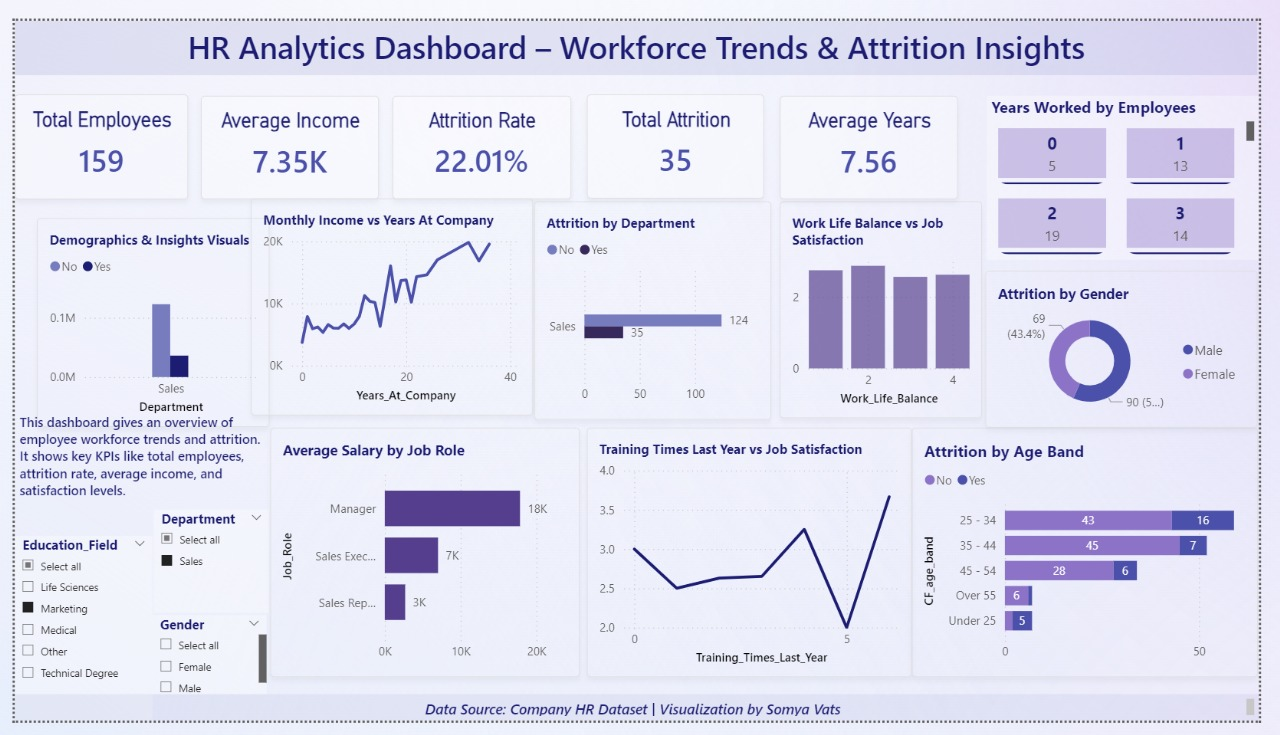

This screenshot's page, from the dashboard's own definition file:
{"tool":"powerbi","page":{"name":"Page 1","canvas":[1280,720],"ordinal":0},"visuals":[{"type":"card","title":"Total Employees","fields":{"Values":["Sum(HR Data xlsx - HR data.Employee_Count)"]},"box":[0,75,178.3,108.3],"z":0},{"type":"card","title":"Average Income","fields":{"Values":["Avg(HR Data xlsx - HR data.Monthly_Income)"]},"box":[191.7,76.7,183.3,106.7],"z":1000},{"type":"clusteredColumnChart","title":"Demographics & Insights Visuals ","fields":{"Category":["HR Data xlsx - HR data.Department"],"Series":["HR Data xlsx - HR data.Attrition"],"Y":["Sum(HR Data xlsx - HR data.Employee_Number)"]},"box":[0,183.8,240,215],"z":2000},{"type":"barChart","title":"Attrition by Age Band","fields":{"Category":["HR Data xlsx - HR data.CF_age_band"],"Y":["CountNonNull(HR Data xlsx - HR data.Employee_Number)"],"Series":["HR Data xlsx - HR data.Attrition"]},"box":[922.9,418.6,355.7,257.1],"z":3000},{"type":"donutChart","title":"Attrition by Gender","fields":{"Category":["HR Data xlsx - HR data.Gender"],"Y":["CountNonNull(HR Data xlsx - HR data.Attrition)"]},"box":[998.8,257,280.2,161.6],"z":4000},{"type":"barChart","title":"Average Salary by Job Role","fields":{"Category":["HR Data xlsx - HR data.Job_Role"],"Y":["Avg(HR Data xlsx - HR data.Monthly_Income)"]},"box":[263.3,418.3,318.3,256.7],"z":5000},{"type":"clusteredColumnChart","title":"Work Life Balance vs Job Satisfaction","fields":{"Category":["HR Data xlsx - HR data.Work_Life_Balance"],"Y":["Avg(HR Data xlsx - HR data.Job_Satisfaction)"]},"box":[786.7,185,208.3,223.3],"z":6000},{"type":"textbox","box":[0,0,1278.8,56.2],"z":7000},{"type":"card","title":"Total Attrition","fields":{"Values":["HR_Data.Attrition Count"]},"box":[589.1,76.4,182.7,107.3],"z":8000},{"type":"card","title":"Attrition Rate","fields":{"Values":["HR_Data.Attrition Rate"]},"box":[389.1,77.3,183.6,106.4],"z":9000},{"type":"slicer","fields":{"Values":["HR Data xlsx - HR data.Department"]},"box":[142.5,502.5,118.8,106.2],"z":10000},{"type":"slicer","fields":{"Values":["HR Data xlsx - HR data.Gender"]},"box":[141.2,611.2,117.5,81.2],"z":11000},{"type":"slicer","fields":{"Values":["HR Data xlsx - HR data.Education_Field"]},"box":[0,502.5,141.2,190],"z":12000},{"type":"textbox","box":[0,692.5,1280,27.5],"z":13000},{"type":"textbox","box":[0,398.8,261.2,103.8],"z":14000},{"type":"lineChart","title":"Monthly Income vs Years At Company","fields":{"Category":["HR_Data.Years_At_Company"],"Y":["Avg(HR_Data.Monthly_Income)"]},"box":[243.3,183.3,290,223.3],"z":15000},{"type":"lineChart","title":"Training Times Last Year vs Job Satisfaction","fields":{"Category":["HR_Data.Training_Times_Last_Year"],"Y":["Avg(HR_Data.Job_Satisfaction)"]},"box":[588.6,418.6,334.3,257.1],"z":16000},{"type":"advancedSlicerVisual","title":"Years Worked by Employees","fields":{"Label":["HR_Data.Total Employees"],"Values":["HR_Data.Years_At_Company"]},"box":[1000,76.7,280.2,168.6],"z":17000},{"type":"card","title":"Average Years ","fields":{"Values":["Avg(HR_Data.Years_At_Company)"]},"box":[786.7,76.7,183.3,106.7],"z":18000},{"type":"clusteredBarChart","title":"Attrition by Department","fields":{"Category":["HR_Data.Department"],"Y":["CountNonNull(HR_Data.Employee_Number)"],"Series":["HR_Data.Attrition"]},"box":[533.8,185,243.8,225],"z":19000}]}

Visuals, with their boxes in screenshot pixels (x1, y1, x2, y2), scaled from the page's 1280x720 canvas onto the 1280x735 screenshot:
"Total Employees" card: 0:77:178:187
"Average Income" card: 192:78:375:187
"Demographics & Insights Visuals " clusteredColumnChart: 0:188:240:407
"Attrition by Age Band" barChart: 923:427:1279:690
"Attrition by Gender" donutChart: 999:262:1279:427
"Average Salary by Job Role" barChart: 263:427:582:689
"Work Life Balance vs Job Satisfaction" clusteredColumnChart: 787:189:995:417
textbox: 0:0:1279:57
"Total Attrition" card: 589:78:772:188
"Attrition Rate" card: 389:79:573:188
slicer - HR Data xlsx - HR data.Department: 142:513:261:621
slicer - HR Data xlsx - HR data.Gender: 141:624:259:707
slicer - HR Data xlsx - HR data.Education_Field: 0:513:141:707
textbox: 0:707:1279:734
textbox: 0:407:261:513
"Monthly Income vs Years At Company" lineChart: 243:187:533:415
"Training Times Last Year vs Job Satisfaction" lineChart: 589:427:923:690
"Years Worked by Employees" advancedSlicerVisual: 1000:78:1279:250
"Average Years " card: 787:78:970:187
"Attrition by Department" clusteredBarChart: 534:189:778:419
